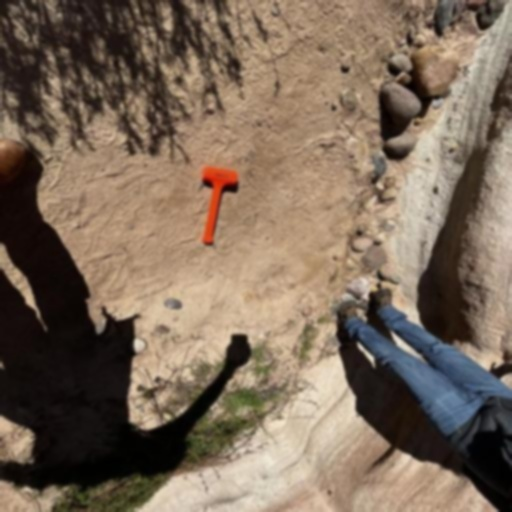mallet: (194, 163, 240, 245)
